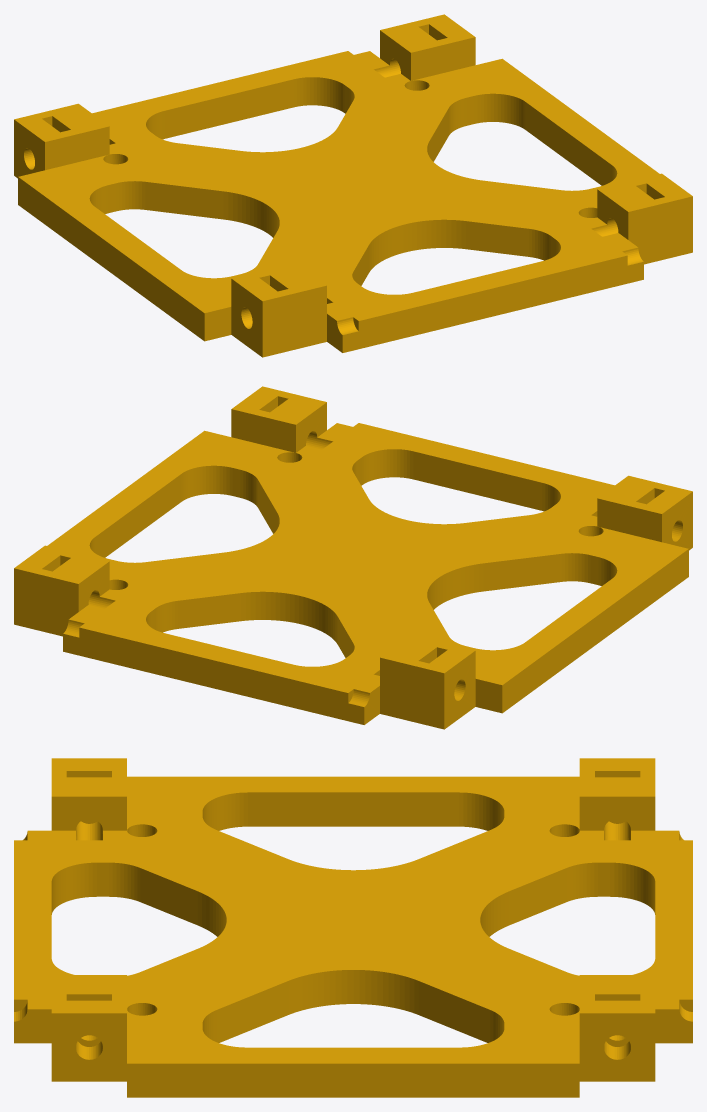
3 renders of one model, top to bottom at view 1: azimuth 30°, elevation 25°; view 2: azimuth 150°, elevation 25°; view 3: azimuth 270°, elevation 25°, orthographic. The views are drawn at different scales.
Parts seen in each view (by area): view 1: Bottom; view 2: Bottom; view 3: Bottom.
Boxes of the visible parts, bbox=[...] form: Bottom: bbox=[14, 14, 692, 357]; Bottom: bbox=[14, 386, 692, 729]; Bottom: bbox=[14, 758, 692, 1097].
Bounding box in the file's own units: 90 × 10 × 90.
